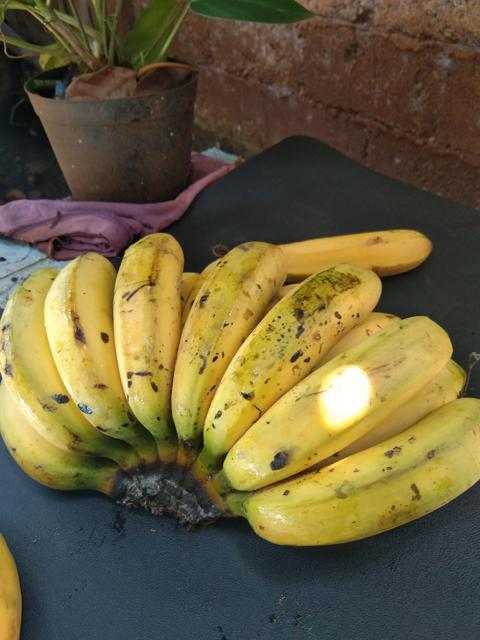freshripe: (291, 217, 441, 277)
ripe: (214, 400, 475, 554), (224, 315, 453, 487), (201, 271, 374, 452), (143, 240, 284, 445), (0, 254, 107, 481), (45, 216, 143, 452), (103, 220, 187, 443)
